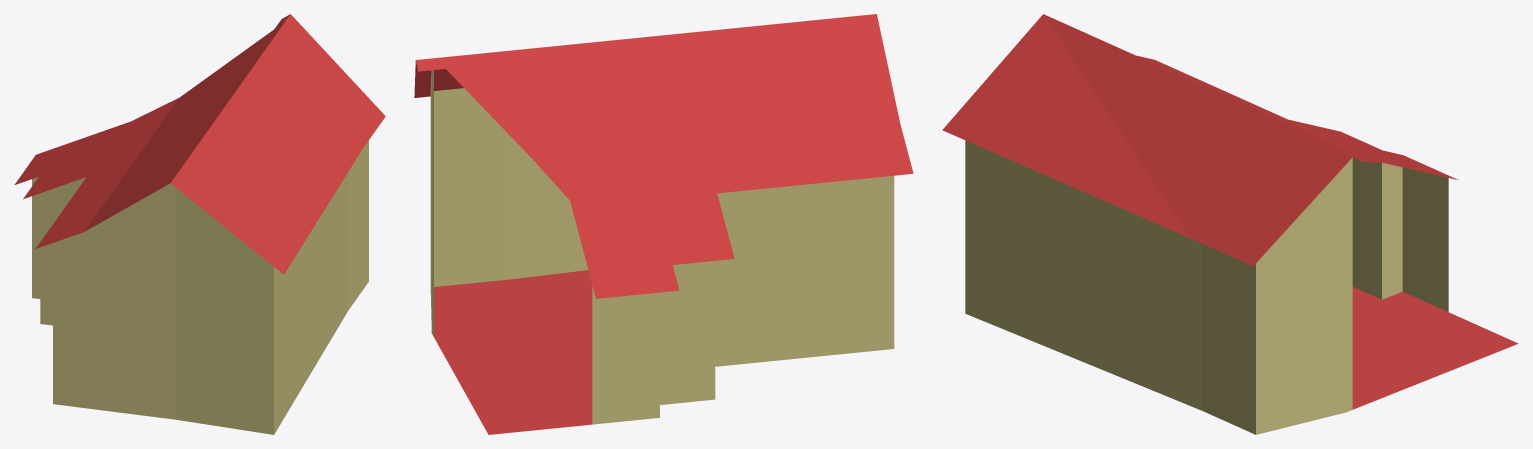
3 renders of one model, left to right at view 1: azimuth 30°, elevation 25°; view 2: azimuth 150°, elevation 25°; view 3: azimuth 270°, elevation 25°, orthographic. The views are drawn at different scales.
Bounding box in the file's own units: 24.12 × 27.97 × 14.11.
